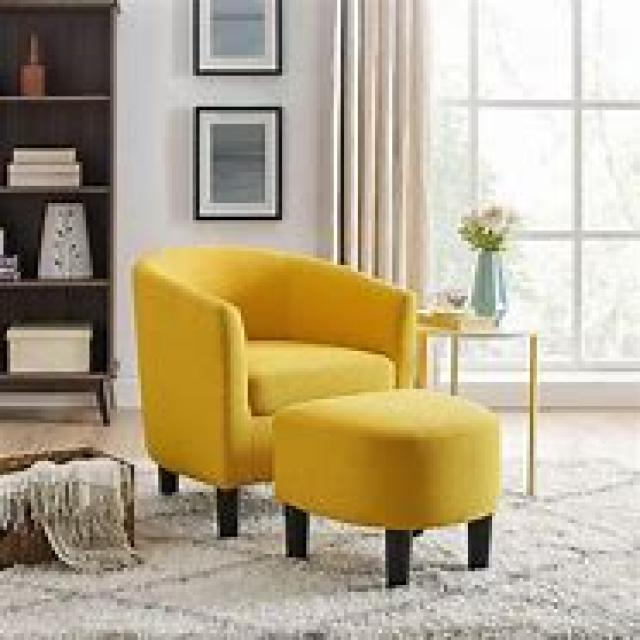chair: (131, 244, 416, 537)
